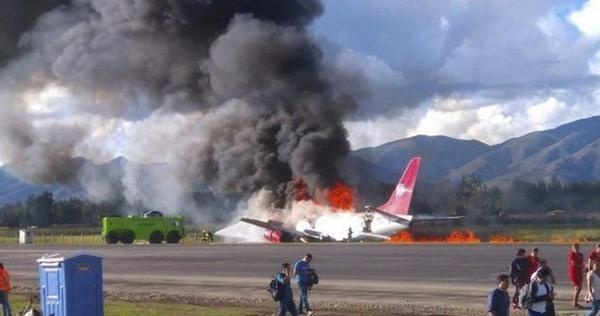fire: (326, 183, 357, 207)
